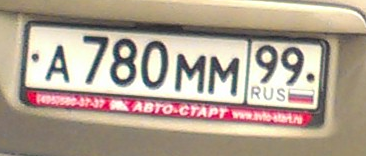character: (80, 34, 110, 87), (172, 53, 207, 97), (207, 56, 242, 100), (111, 37, 139, 90), (141, 39, 169, 91), (42, 44, 73, 84), (254, 42, 281, 86), (280, 44, 305, 87)
